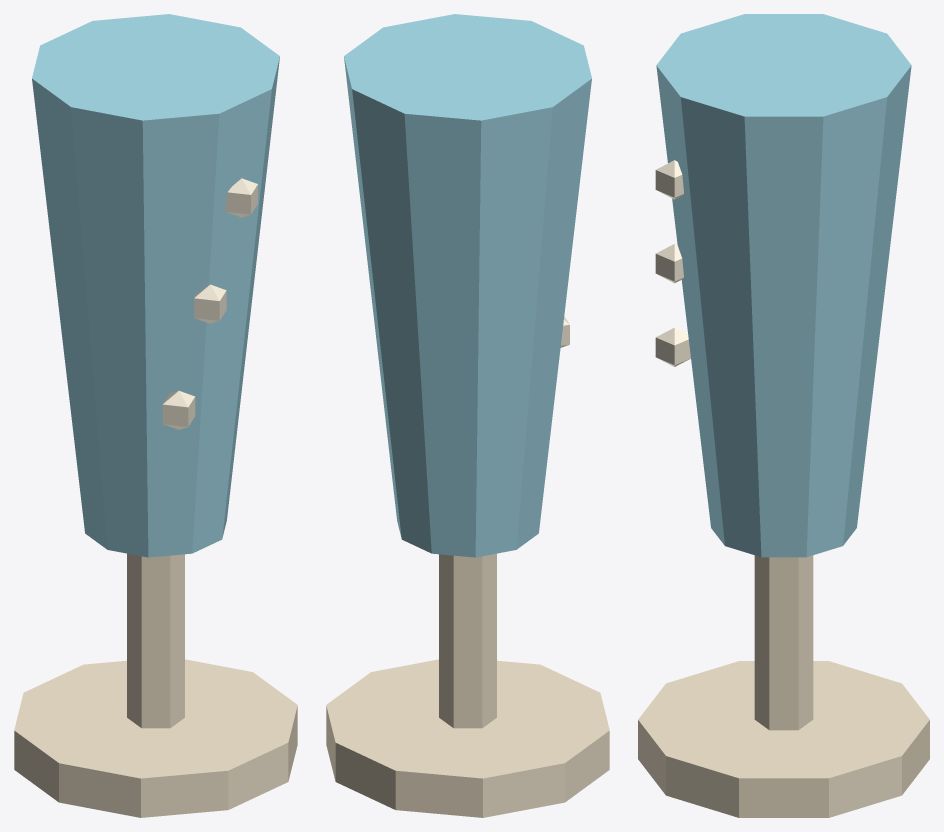
File: PR_Drink_ElfCiyi.fbx
The picture shows the model from 3 angles, left to right: view 1: azimuth 30°, elevation 25°; view 2: azimuth 150°, elevation 25°; view 3: azimuth 270°, elevation 25°; orthographic projection.
Visible parts, largest first — view 1: PR_Drink_ElfCiyi; view 2: PR_Drink_ElfCiyi; view 3: PR_Drink_ElfCiyi.
Boxes of the visible parts, bbox=[...] form: PR_Drink_ElfCiyi: bbox=[14, 14, 297, 817]; PR_Drink_ElfCiyi: bbox=[326, 14, 609, 817]; PR_Drink_ElfCiyi: bbox=[638, 14, 929, 817].
Bounding box in the file's own units: 0.0761 × 0.21 × 0.08.
Materials: 1 (1 with a texture image).
